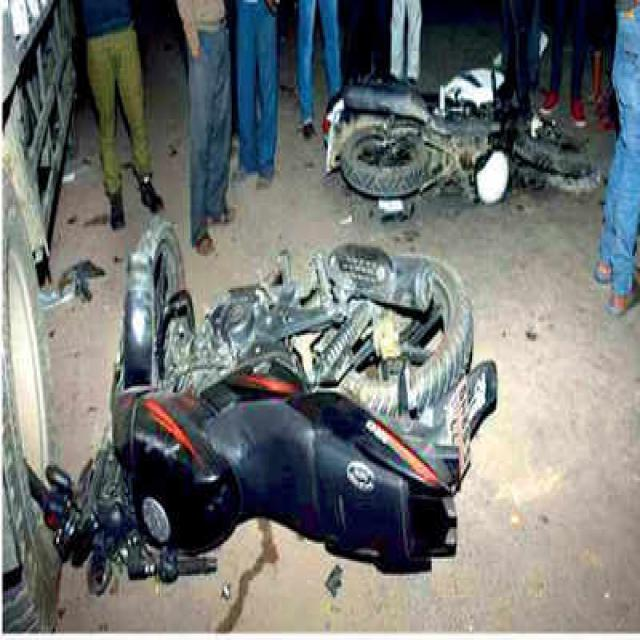accident: (30, 222, 496, 594), (324, 70, 600, 216)
